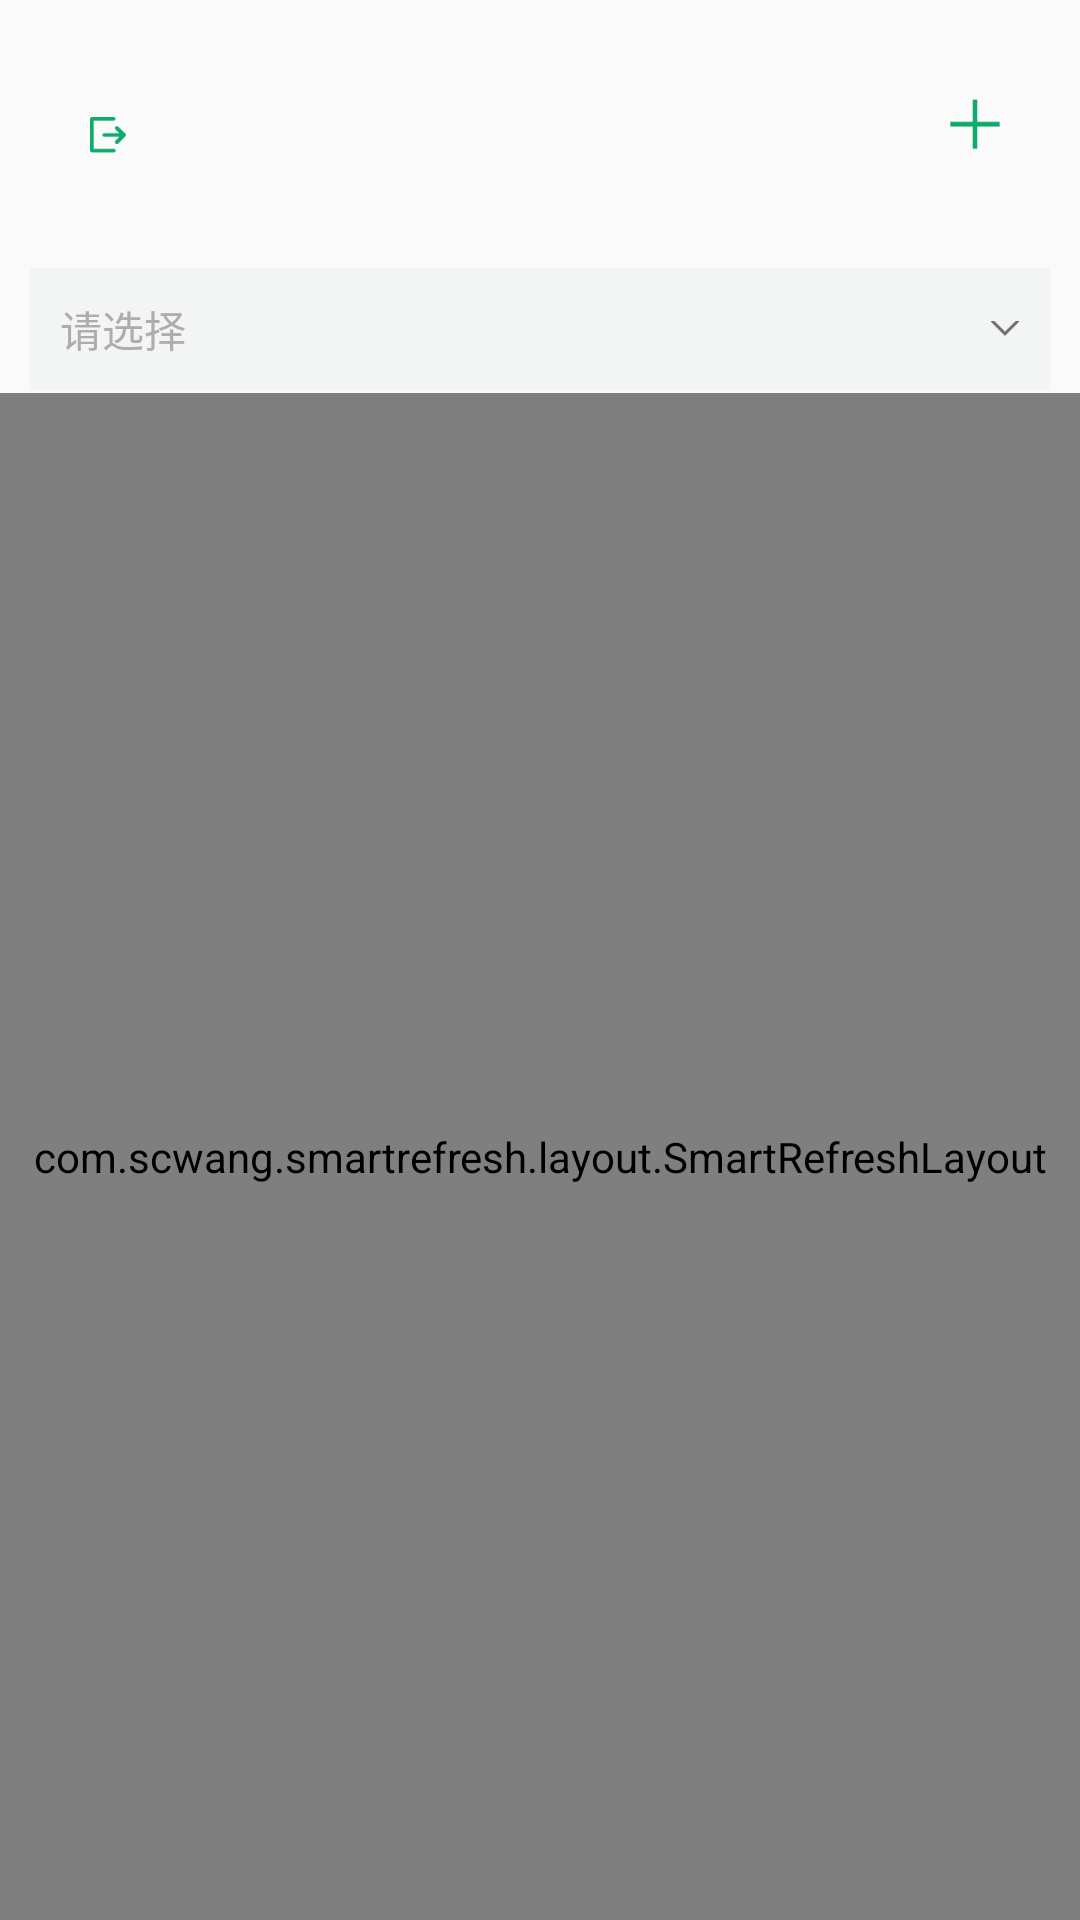

Where icons sit on this 1080*1920 app screen, as (x1, y1, x2, y2):
add: (950, 99, 1000, 149)
tuichudenglu: (90, 117, 126, 153)
